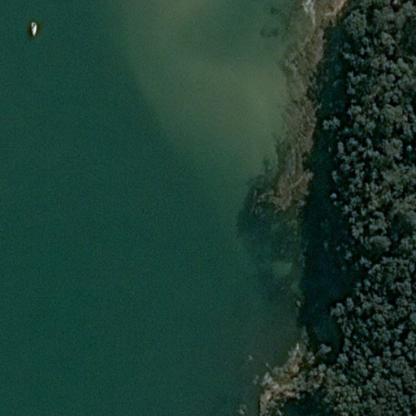ship: (24, 14, 44, 41)
